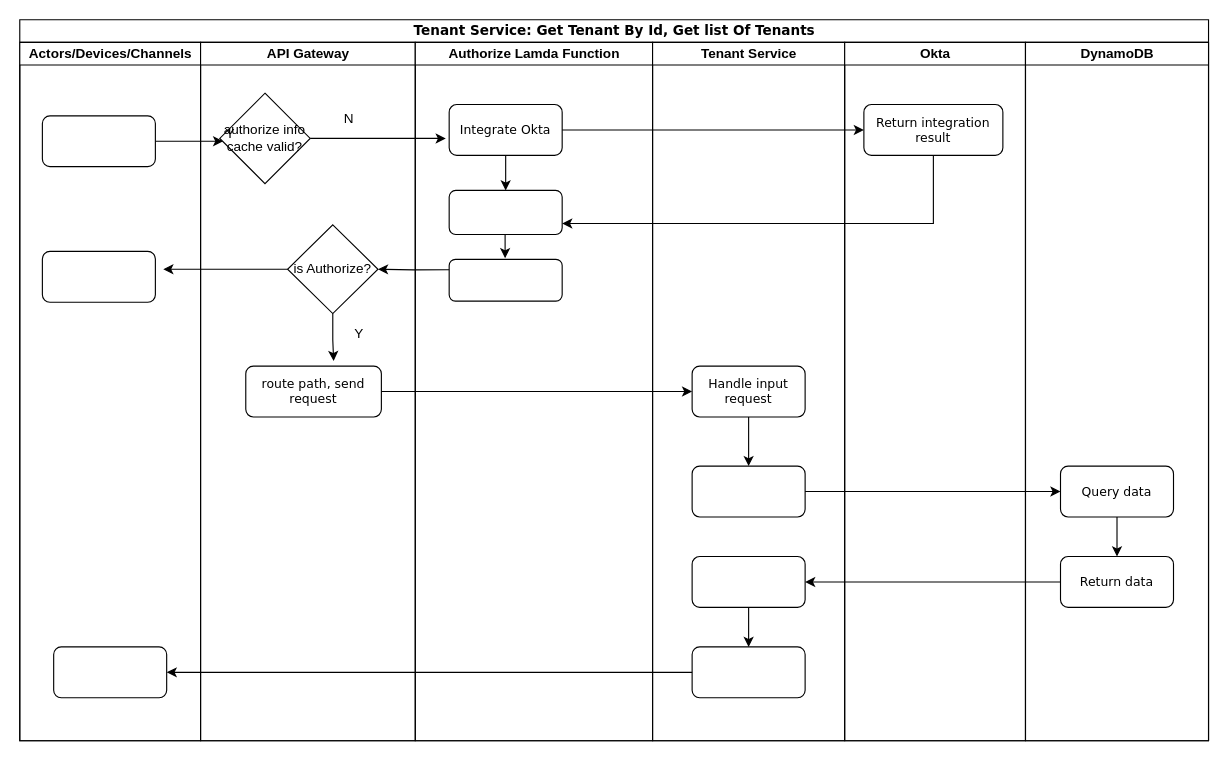
The diagram is 1228 pixels wide and 760 high, and some of its shapes have lost their labels. The centre of each missing label's shape, as x and y in pixels:
Handle authorize: the point at 505,211
Handle data: the point at 748,581
Push Query criteria: the point at 748,491
Receive authorize error: the point at 98,276
Receive response: the point at 110,672
Response: the point at 748,672
Return authorize result: the point at 505,279
Send request: the point at 98,141
